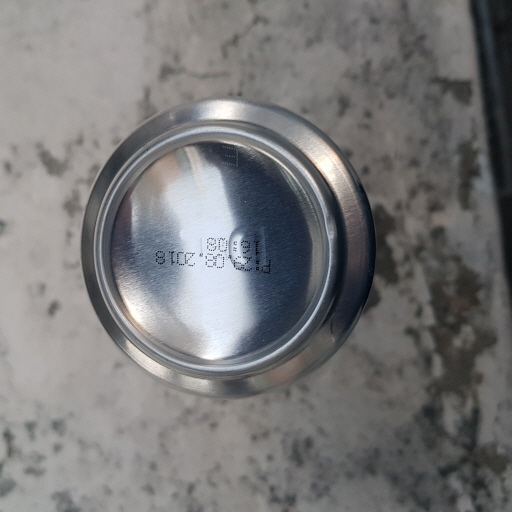Metal_0: (81, 97, 378, 399)
